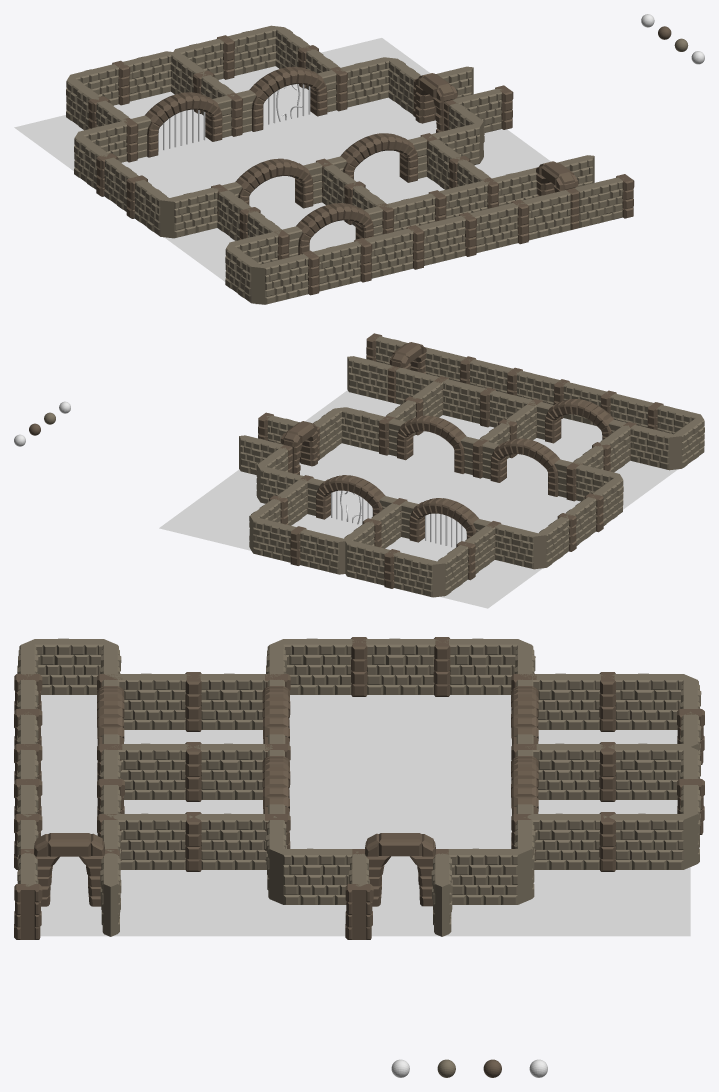
3 renders of one model, top to bottom at view 1: azimuth 30°, elevation 25°; view 2: azimuth 150°, elevation 25°; view 3: azimuth 270°, elevation 25°, orthographic. The views are drawn at different scales.
Parts seen in each view (by area): view 1: Plane, Cube.010, Cube.033, tmur1.013, tmur1.034, Cube.110, Cube.113, tmur1.044, Cube.115, tmur1.021, tmur1.007, tmur1.039 (+55 smaller); view 2: Plane, Cube.110, Cube.113, tmur1.017, tmur1.033, tmur1.022, tmur1.009, Cube.115, tmur1.043, Cube.033, Cube.010, tmur1.018 (+40 smaller); view 3: Plane, tmur1.023, tmur1.006, tmur1.008, tmur1.011, tmur1.014, tmur1.029, tmur1.024, tmur1.010, tmur1.020, tmur1.012, tmur1.019 (+29 smaller).
Part boxes in pixels (bbox=[...]): Plane: bbox=[14, 38, 550, 304]; Cube.010: bbox=[249, 66, 327, 131]; Cube.033: bbox=[145, 92, 222, 157]; tmur1.013: bbox=[167, 187, 218, 238]; tmur1.034: bbox=[258, 254, 308, 304]; Cube.110: bbox=[340, 133, 417, 182]; Cube.113: bbox=[235, 158, 313, 208]; tmur1.044: bbox=[575, 177, 623, 227]; Cube.115: bbox=[296, 203, 373, 254]; tmur1.021: bbox=[123, 51, 172, 101]; tmur1.007: bbox=[340, 57, 390, 107]; tmur1.039: bbox=[520, 190, 570, 240]; Plane: bbox=[159, 390, 677, 608]; Cube.110: bbox=[397, 415, 466, 473]; Cube.113: bbox=[490, 438, 559, 496]; tmur1.017: bbox=[300, 529, 345, 574]; tmur1.033: bbox=[630, 425, 675, 470]; tmur1.022: bbox=[393, 552, 438, 597]; tmur1.009: bbox=[494, 524, 539, 569]; Cube.115: bbox=[545, 399, 613, 443]; tmur1.043: bbox=[347, 356, 393, 401]; Cube.033: bbox=[409, 498, 478, 542]; Cube.010: bbox=[316, 475, 385, 519]; tmur1.018: bbox=[251, 517, 296, 562]; Plane: bbox=[40, 695, 690, 936]; tmur1.023: bbox=[609, 813, 690, 869]; tmur1.006: bbox=[447, 848, 524, 904]; tmur1.008: bbox=[276, 848, 358, 904]; tmur1.011: bbox=[361, 638, 439, 694]; tmur1.014: bbox=[527, 813, 607, 869]; tmur1.029: bbox=[113, 813, 192, 869]; tmur1.024: bbox=[195, 813, 275, 869]; tmur1.010: bbox=[445, 638, 524, 694]; tmur1.020: bbox=[608, 743, 689, 799]; tmur1.012: bbox=[277, 638, 358, 694]; tmur1.019: bbox=[612, 673, 689, 729].
Size of the model in its own units: 6090 by 496 by 4504.
